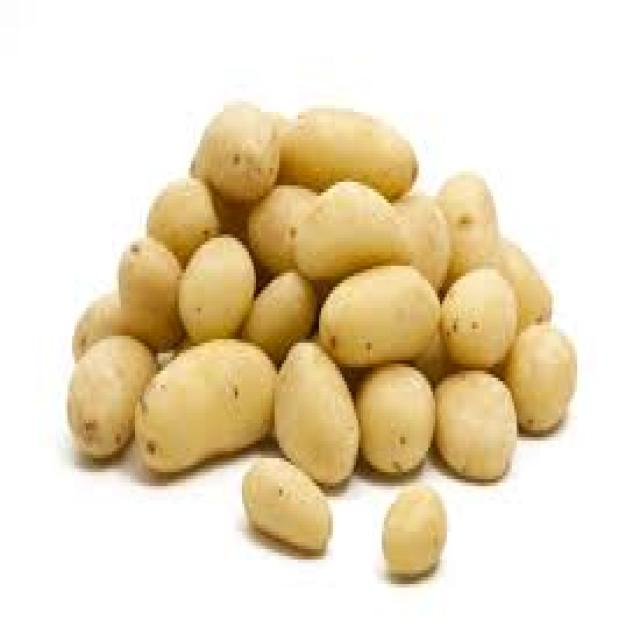Potato: (135, 326, 283, 495), (276, 98, 437, 204), (316, 255, 446, 365), (417, 361, 525, 493), (58, 332, 162, 467), (269, 341, 359, 497), (234, 439, 348, 555), (502, 313, 587, 454), (186, 91, 284, 210), (341, 360, 437, 480), (294, 183, 415, 276), (436, 251, 521, 372), (104, 223, 186, 344), (243, 172, 339, 272), (129, 168, 224, 264), (176, 241, 264, 341), (235, 265, 324, 359), (432, 163, 508, 272), (377, 484, 451, 593), (384, 187, 458, 290)
